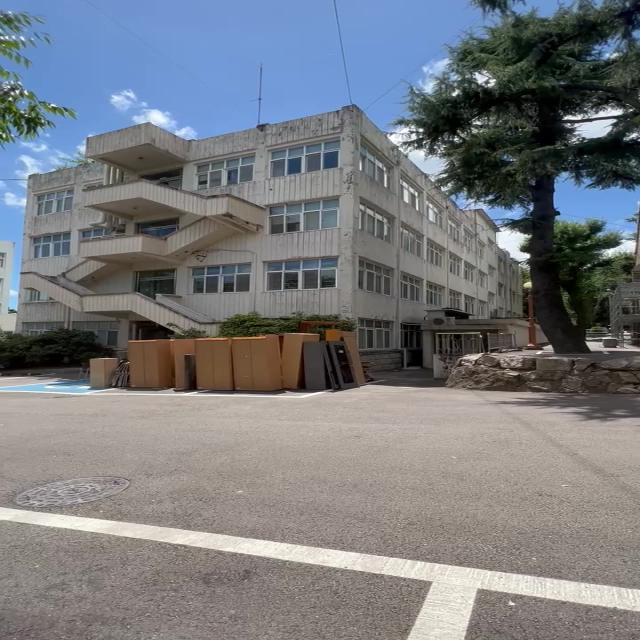building: (36, 126, 433, 318)
